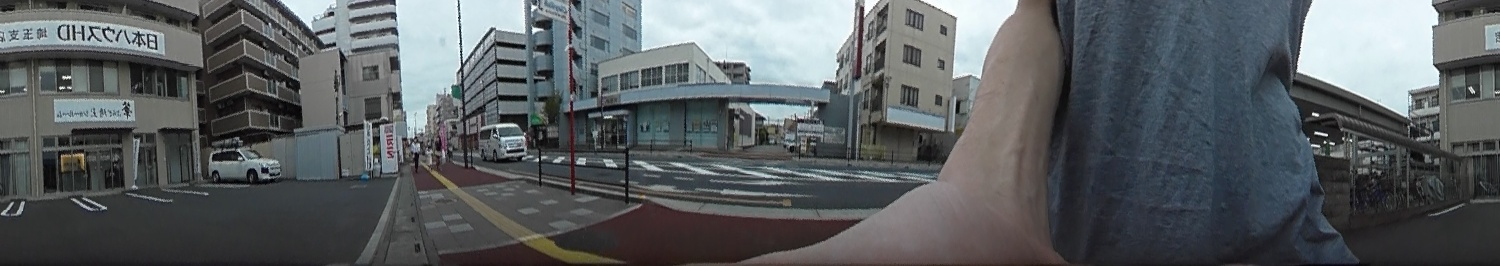difficult_person: (431, 133, 445, 172), (410, 135, 422, 173), (423, 141, 435, 168)
